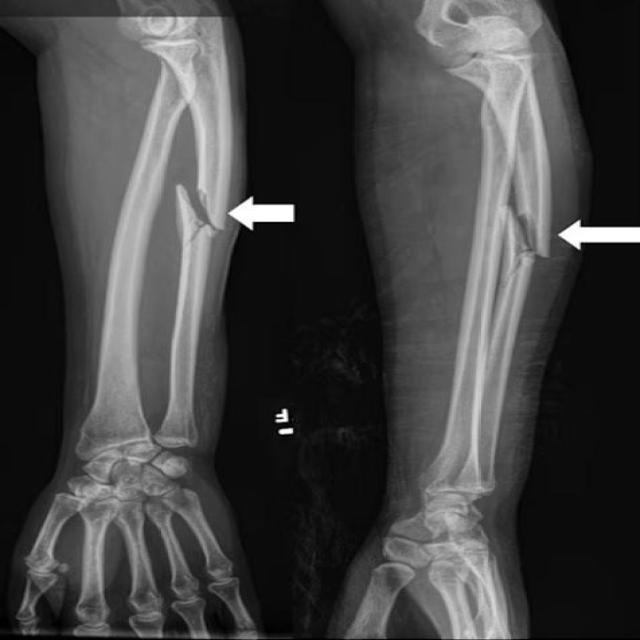bone: (148, 183, 245, 253), (484, 195, 558, 278)
